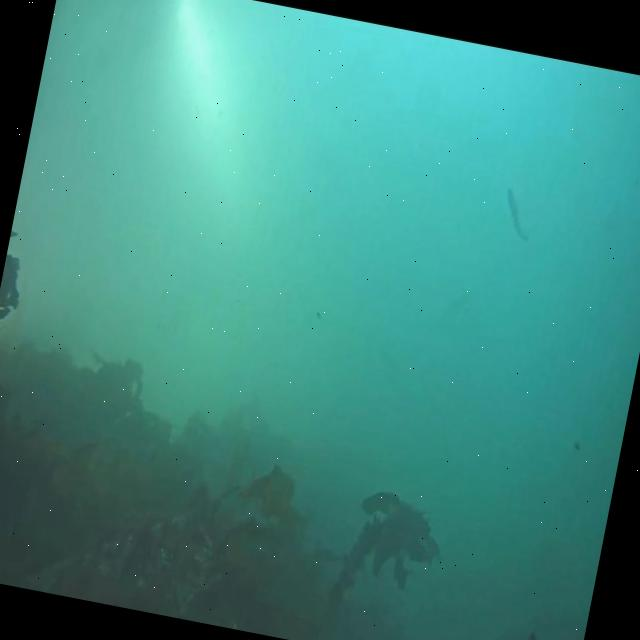fish: (499, 188, 538, 241)
